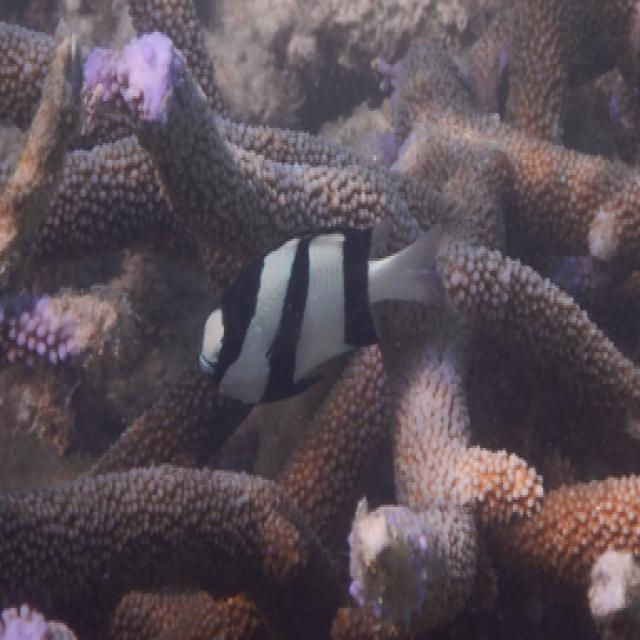Three_striped DasmselFish: (198, 218, 448, 402)
